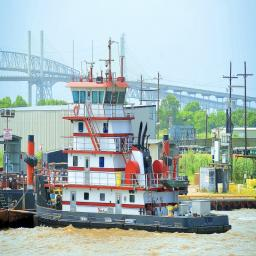tugboat: (30, 70, 234, 239)
